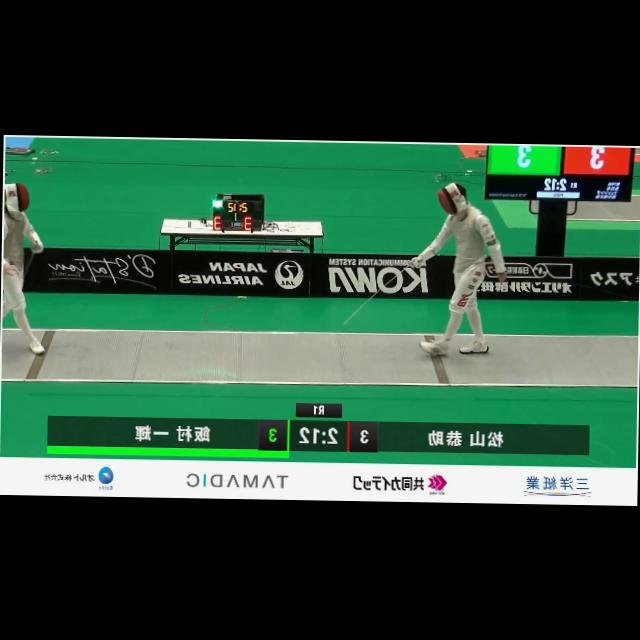blade: (331, 253, 420, 327), (8, 240, 49, 292)
